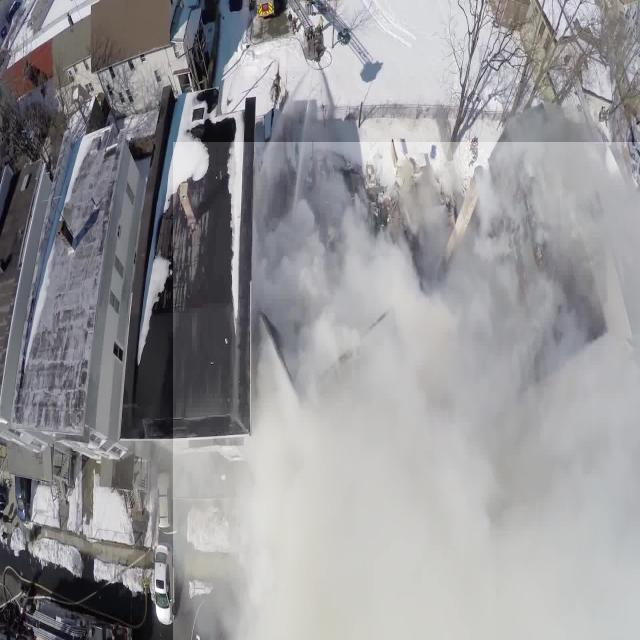Smoke: (173, 142, 640, 640)
